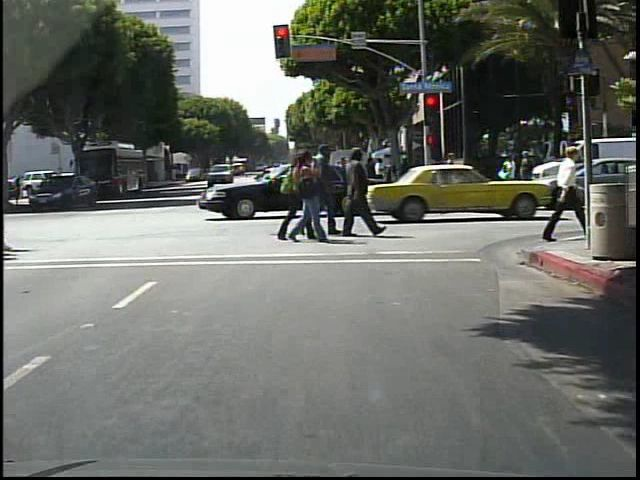person: (537, 141, 583, 247)
